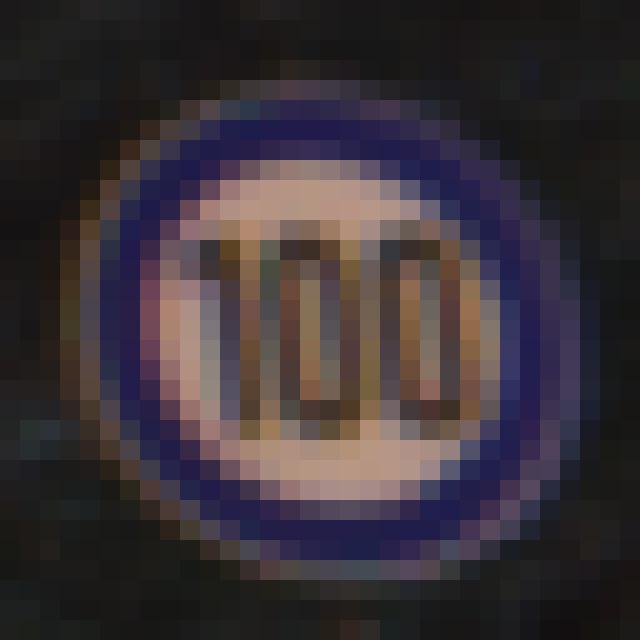SPEED LIMIT 100: (77, 85, 576, 579)
